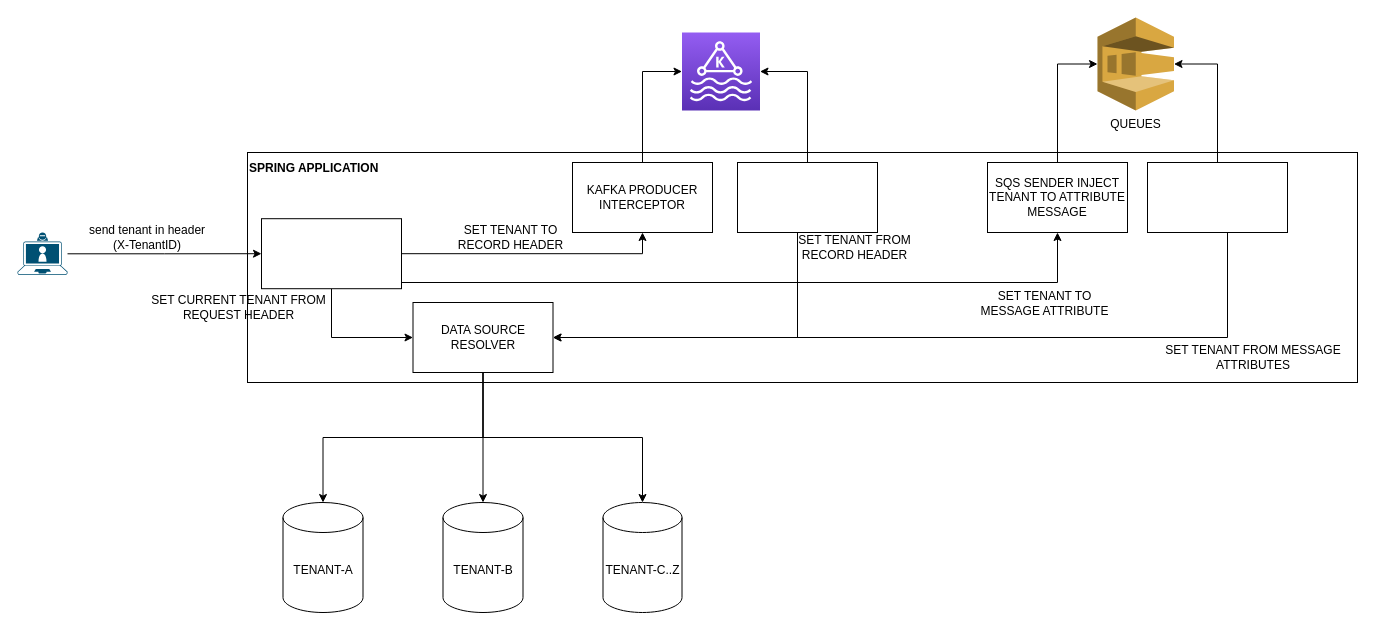
The diagram is 1375 pixels wide and 630 high, and some of its shapes have lost their labels. The centre of each missing label's shape, as x and y in pixels:
KAFKA CONSUMER INTERCEPTOR: point (807, 197)
SQS CONSUMER ASPECT: point (1217, 197)
TENANT REQUEST FILTER: point (331, 253)
TOPICS: point (720, 71)
